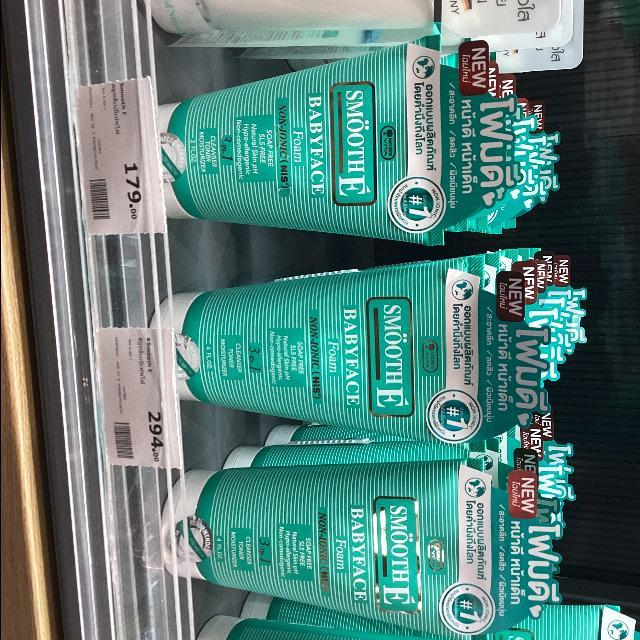Squeeze Tube: (127, 0, 583, 640), (157, 20, 457, 234), (180, 451, 527, 624), (170, 256, 487, 437)
